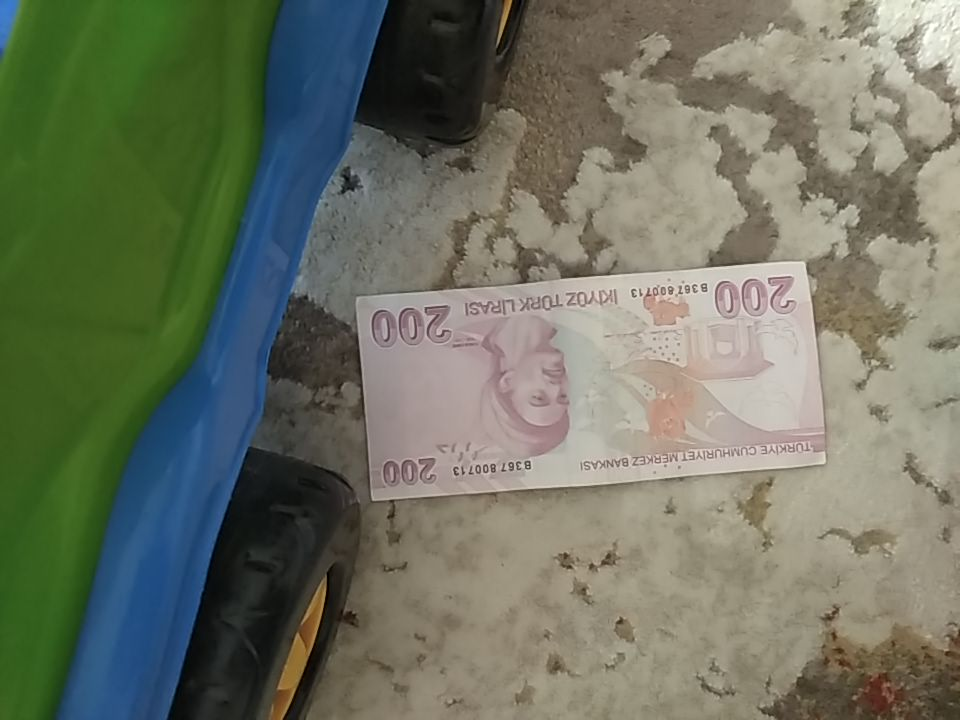200TL: (354, 260, 829, 502)
